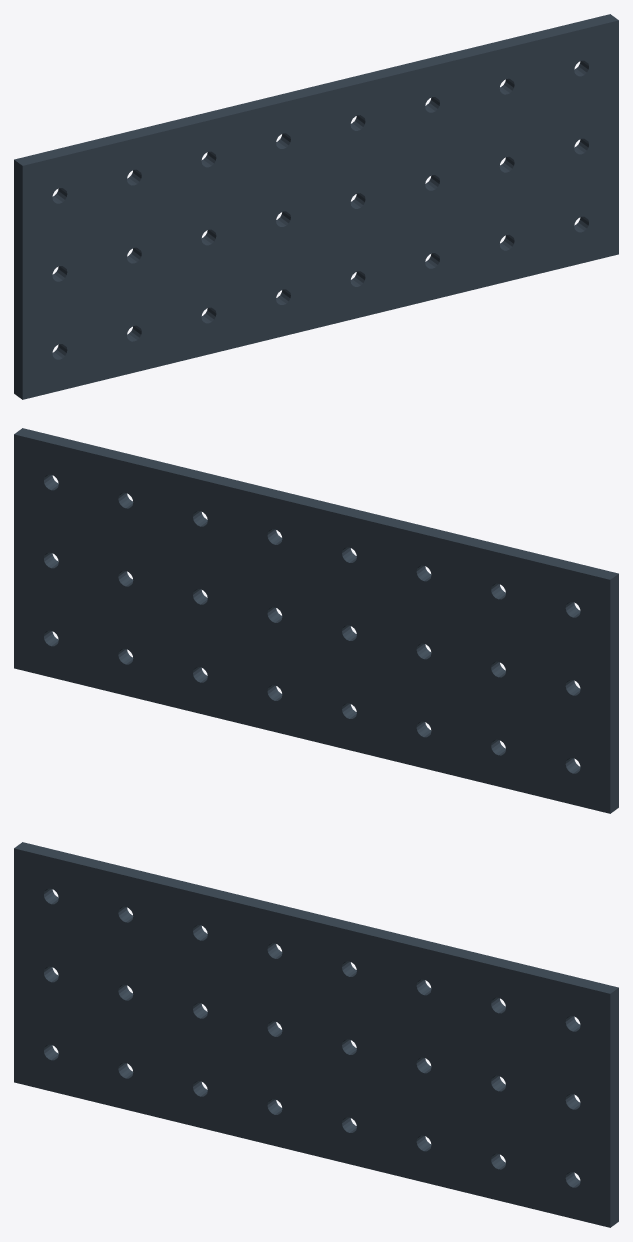
File: kit_plate_160_60.obj
The picture shows the model from 3 angles, top to bottom: view 1: azimuth 30°, elevation 25°; view 2: azimuth 150°, elevation 25°; view 3: azimuth 330°, elevation 25°; orthographic projection.
Visible parts, largest first — view 1: kit_plate_160_60; view 2: kit_plate_160_60; view 3: kit_plate_160_60.
Boxes of the visible parts, x1,y1,x2,y2 form: kit_plate_160_60: (14, 14, 618, 399); kit_plate_160_60: (14, 428, 618, 813); kit_plate_160_60: (14, 842, 618, 1227).
Bounding box in the file's own units: 0.16 × 0.06 × 0.004.
